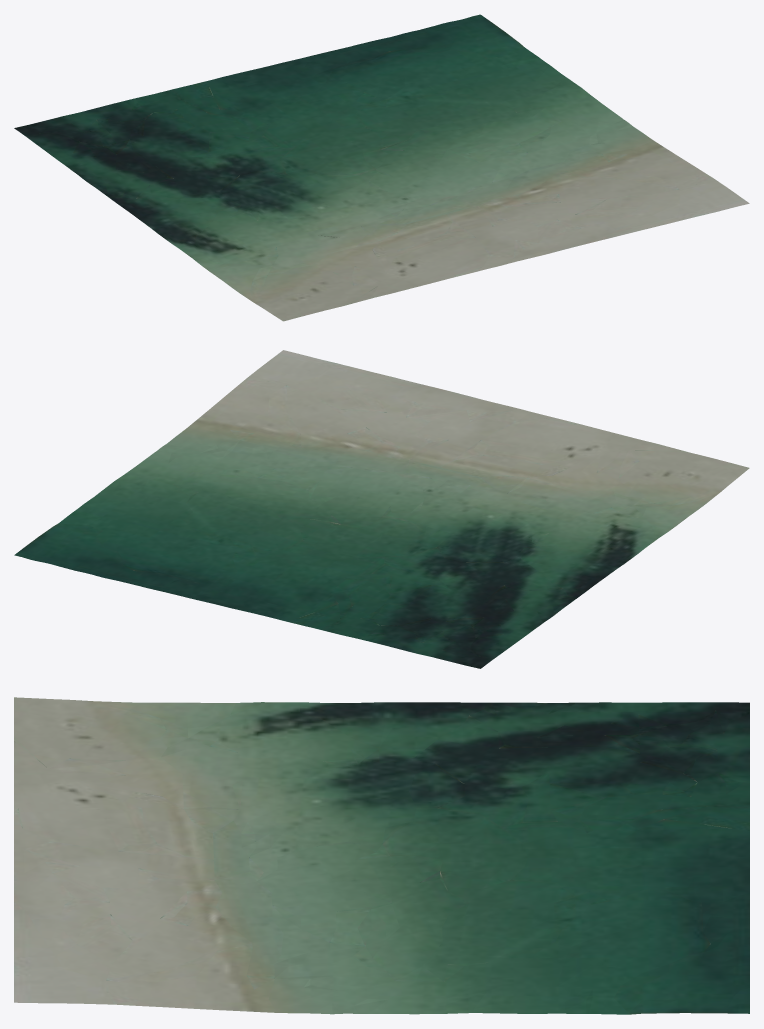
3 renders of one model, top to bottom at view 1: azimuth 30°, elevation 25°; view 2: azimuth 150°, elevation 25°; view 3: azimuth 270°, elevation 25°, orthographic. The views are drawn at different scales.
Bounding box in the file's own units: 104 × 1.89 × 104.
2 materials, 2 textured.
